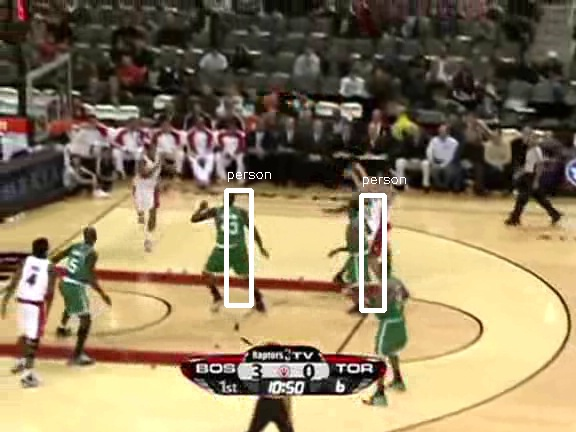person: (343, 213, 377, 294), (342, 213, 376, 294), (344, 213, 378, 294), (343, 212, 377, 293), (343, 214, 377, 295)
target_negative: (455, 56, 571, 342), (188, 126, 406, 222), (110, 2, 222, 102), (392, 40, 494, 94), (426, 91, 478, 135), (374, 427, 398, 431)
